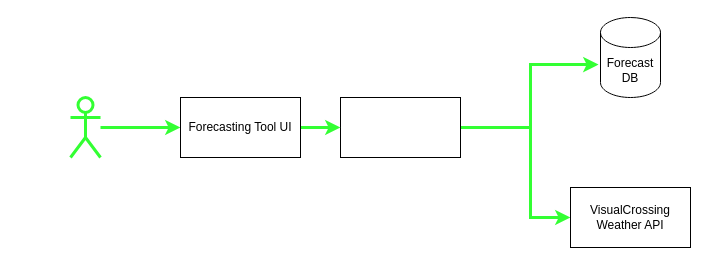
This 708x265 diagram has some shape labels left out. Here are the shapes that lost their labels. From the top down, the centre of each, then its label:
At pixel 85 127: "Procurement Manager".
At pixel 400 127: "Forecasting Tool Backend".
